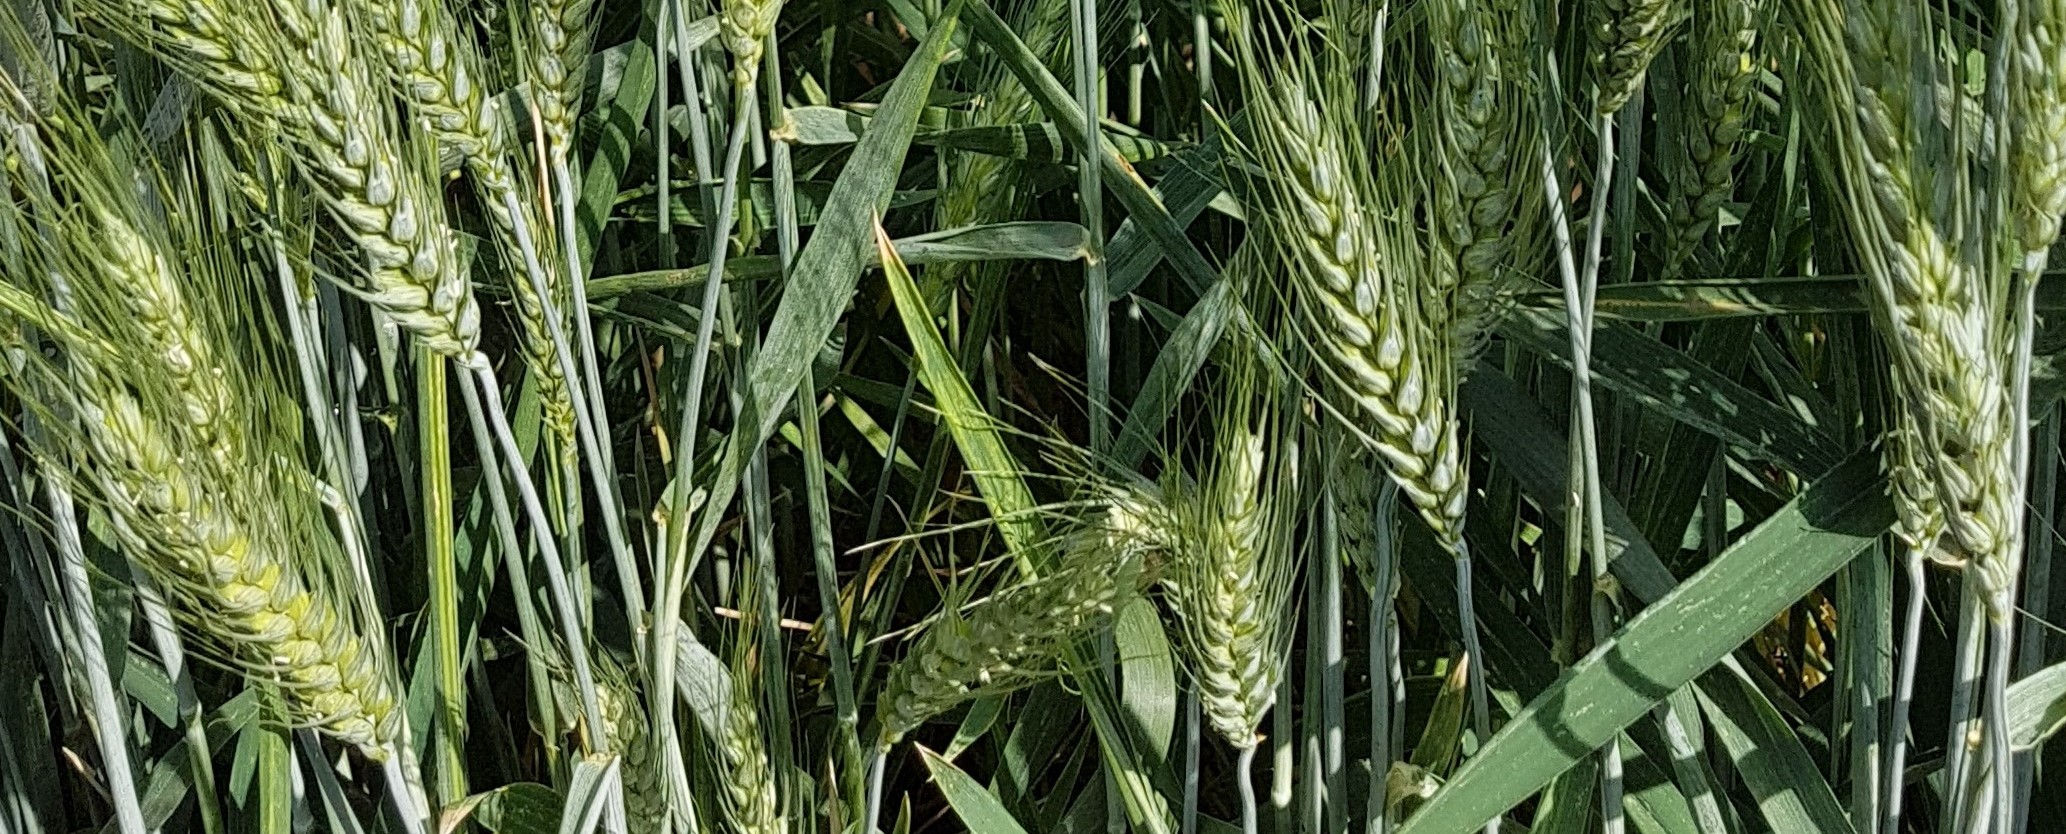Healthy Wheat: (1245, 90, 1495, 530)
